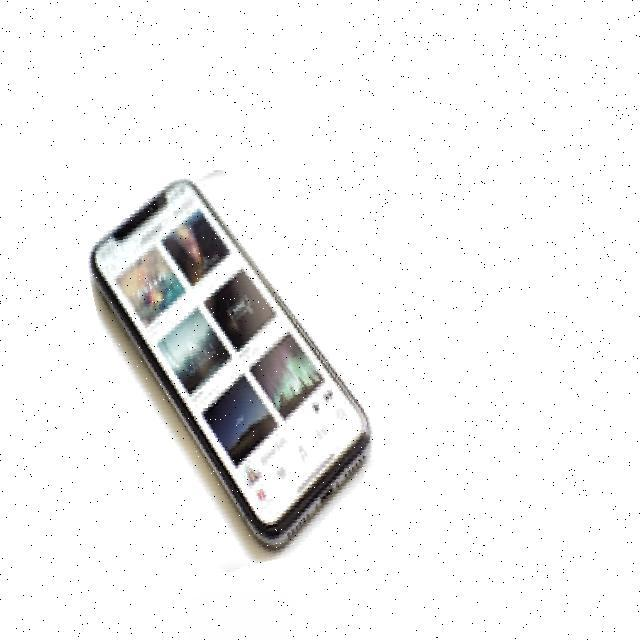Phone: (92, 162, 377, 574)
